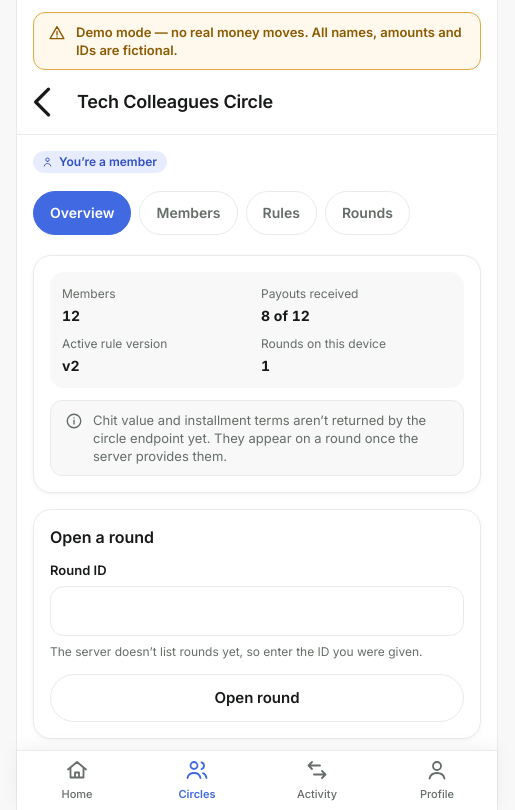
Circle details › shows members, role badge, and hides security status from non-organizers
Expected: the text "You’re a member" is shown, left=33, top=151, right=167, bottom=173
Click the tab "Members": (189, 213) left=140, top=191, right=238, bottom=235
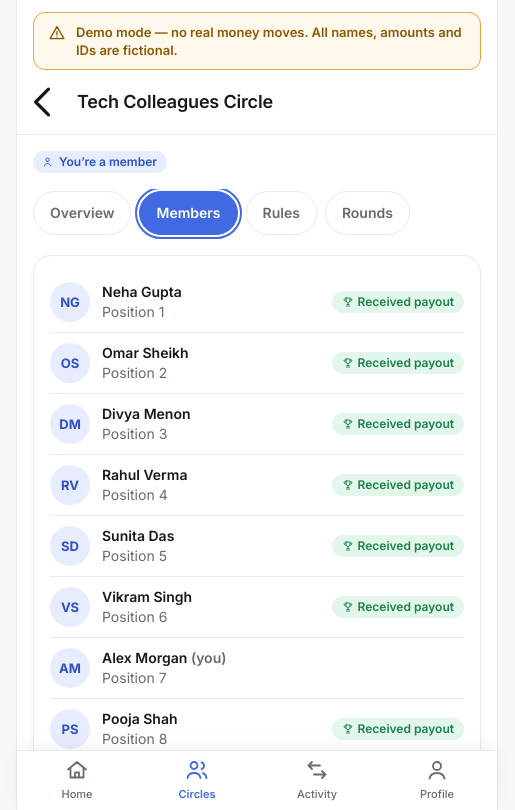
Expected: the text "Neha Gupta" is shown, left=102, top=283, right=182, bottom=300
